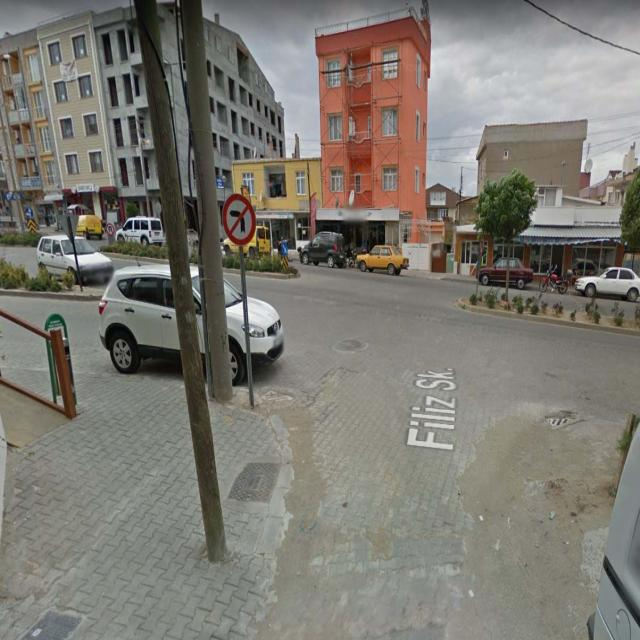soladonulmez: (223, 195, 256, 245)
